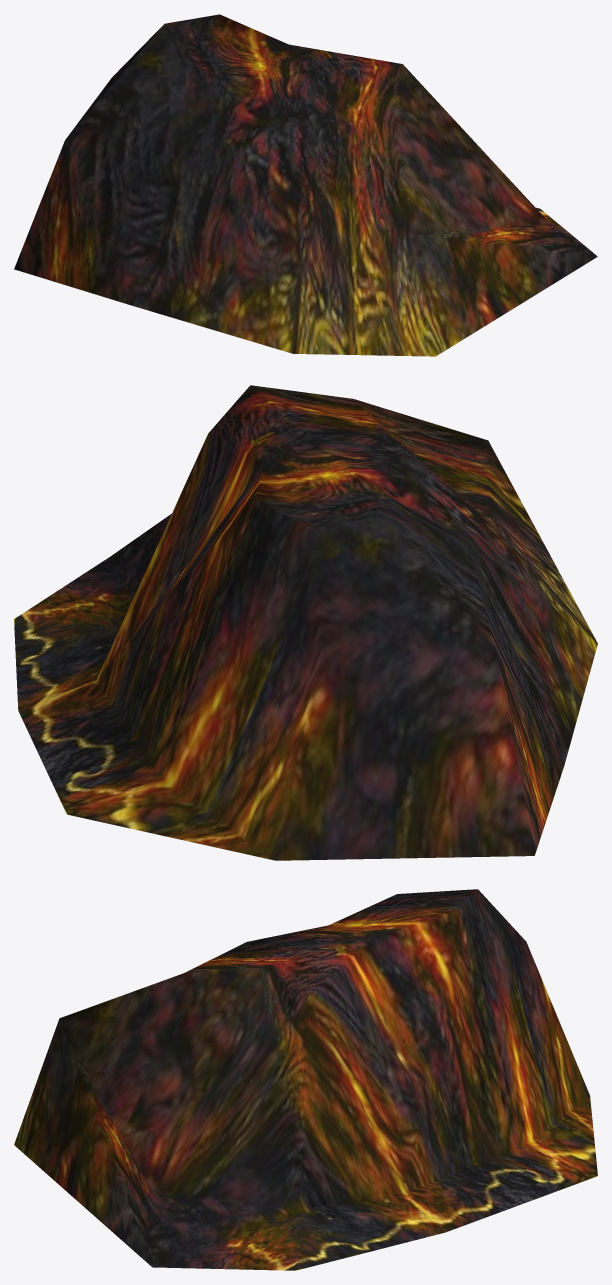
Rendered from pir_m_prp_vol_rockHot_b.fbx.
The picture shows the model from 3 angles, top to bottom: view 1: azimuth 30°, elevation 25°; view 2: azimuth 150°, elevation 25°; view 3: azimuth 270°, elevation 25°; orthographic projection. The views are drawn at different scales.
Visible parts, largest first — view 1: lod_high; view 2: lod_high; view 3: lod_high.
Boxes of the visible parts, x1=… form: lod_high: x1=14, y1=14, x2=597, y2=356; lod_high: x1=14, y1=385, x2=597, y2=860; lod_high: x1=14, y1=889, x2=597, y2=1270.
Bounding box in the file's own units: 2712 × 1188 × 2714.
Materials: 1 (1 with a texture image).
